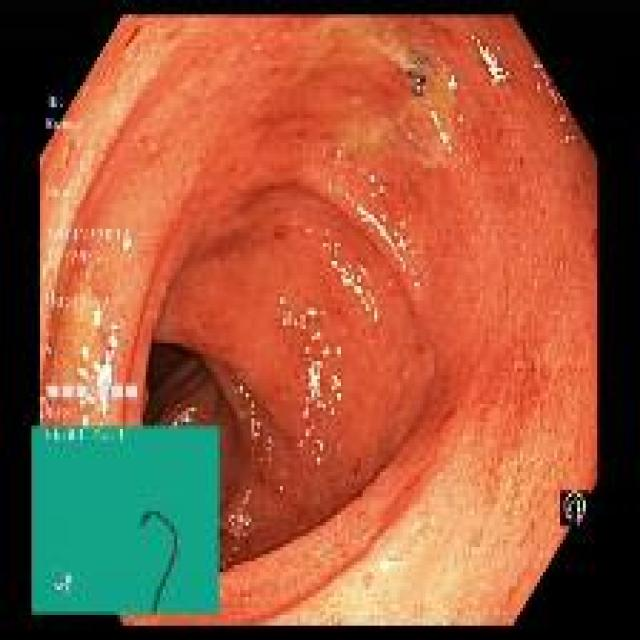ulcerative-colitis: (40, 17, 598, 623)
